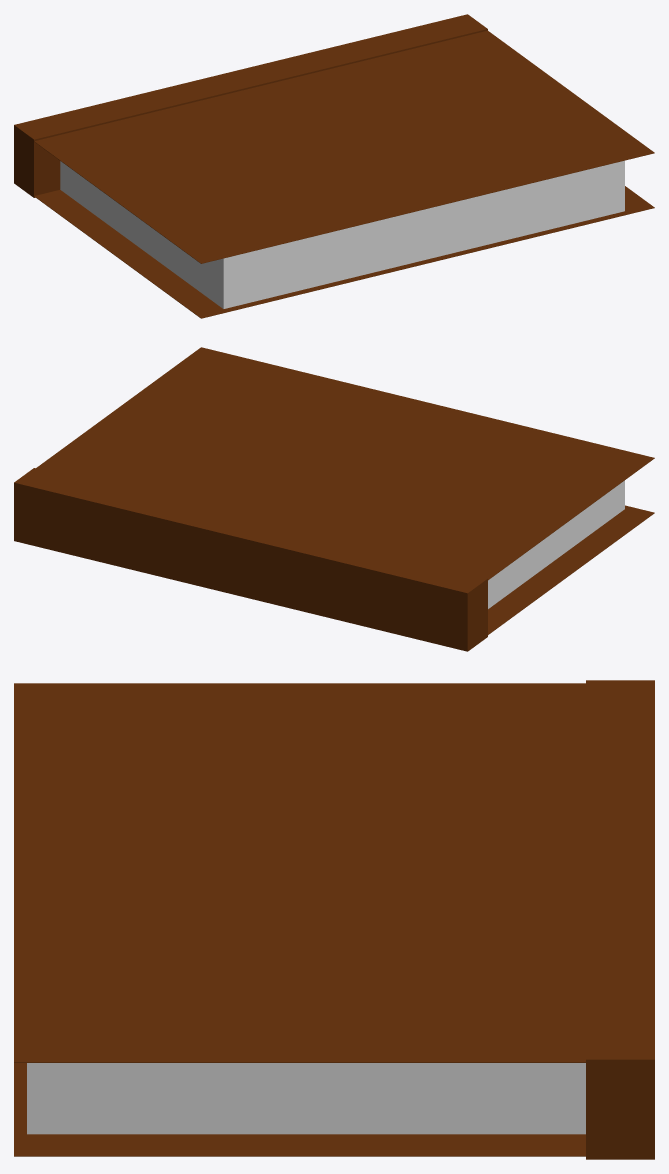
Rendered from bookintogame14_marchj.fbx.
3 renders of one model, top to bottom at view 1: azimuth 30°, elevation 25°; view 2: azimuth 150°, elevation 25°; view 3: azimuth 270°, elevation 25°, orthographic. The views are drawn at different scales.
Parts seen in each view (by area): view 1: over, pages, spine, under; view 2: over, spine, under, pages; view 3: over, pages, spine, under.
Boxes of the visible parts, x1,y1,x2,y2 form: over: [27, 30, 654, 263]; pages: [60, 160, 624, 308]; spine: [14, 14, 487, 197]; under: [34, 186, 654, 318]; over: [36, 347, 654, 587]; spine: [14, 468, 487, 651]; under: [488, 505, 654, 634]; pages: [488, 480, 624, 608]; over: [14, 683, 626, 1062]; pages: [27, 1063, 585, 1134]; spine: [586, 680, 654, 1159]; under: [14, 1063, 585, 1156].
Size of what is drawn, in the model's own units: 260 by 32 by 186.
